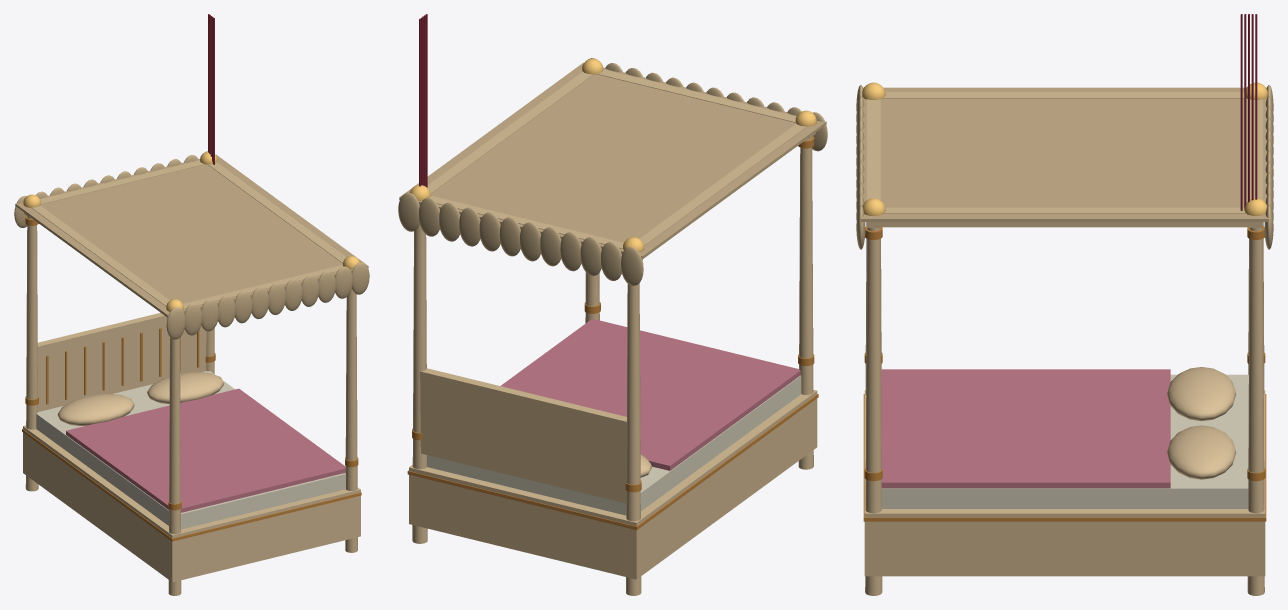
The model's file is mia-canopy_bed.glb.
The picture shows the model from 3 angles, left to right: view 1: azimuth 30°, elevation 25°; view 2: azimuth 150°, elevation 25°; view 3: azimuth 270°, elevation 25°; orthographic projection. The views are drawn at different scales.
Visible parts, largest first — view 1: Body_ivory, Body_canvas, Body_cake-rose, Body_mattress, Body_brass, Body_velvet, Body_trim; view 2: Body_ivory, Body_canvas, Body_cake-rose, Body_mattress, Body_brass, Body_velvet, Body_trim; view 3: Body_ivory, Body_canvas, Body_cake-rose, Body_mattress, Body_brass, Body_velvet, Body_trim.
Boxes of the visible parts, <box> form: Body_ivory: <box>23,160,360,595</box>; Body_canvas: <box>14,151,369,339</box>; Body_cake-rose: <box>66,388,345,512</box>; Body_mattress: <box>36,371,345,529</box>; Body_brass: <box>22,215,361,541</box>; Body_velvet: <box>208,14,214,164</box>; Body_trim: <box>23,151,359,311</box>; Body_ivory: <box>409,69,817,595</box>; Body_canvas: <box>398,58,827,285</box>; Body_cake-rose: <box>501,319,800,470</box>; Body_mattress: <box>427,375,801,515</box>; Body_brass: <box>407,136,818,530</box>; Body_velvet: <box>419,14,427,187</box>; Body_trim: <box>409,58,816,252</box>; Body_ivory: <box>864,92,1265,595</box>; Body_canvas: <box>856,85,1273,249</box>; Body_cake-rose: <box>881,369,1170,488</box>; Body_mattress: <box>881,374,1248,508</box>; Body_brass: <box>863,226,1266,521</box>; Body_velvet: <box>1240,14,1257,210</box>; Body_trim: <box>862,82,1267,215</box>.
Bounding box in the file's own units: 1.72 × 3.5 × 2.29.
